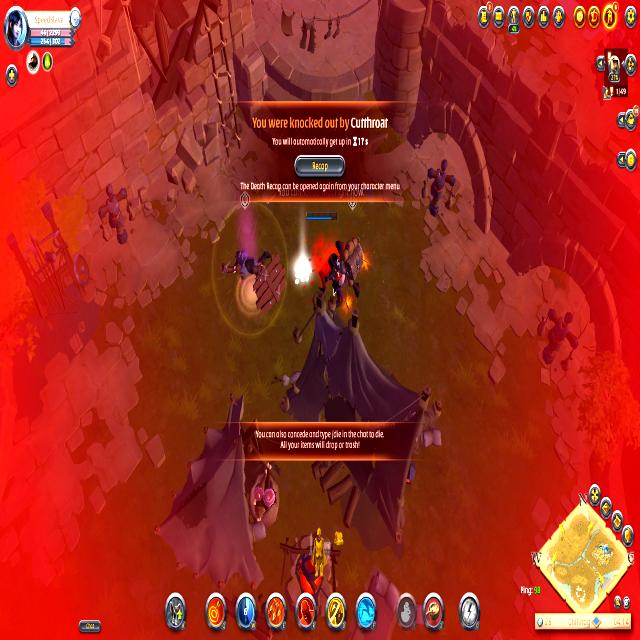ore: (220, 185, 292, 325), (331, 188, 371, 318)
red: (304, 210, 340, 310)
stone: (293, 256, 312, 292)
